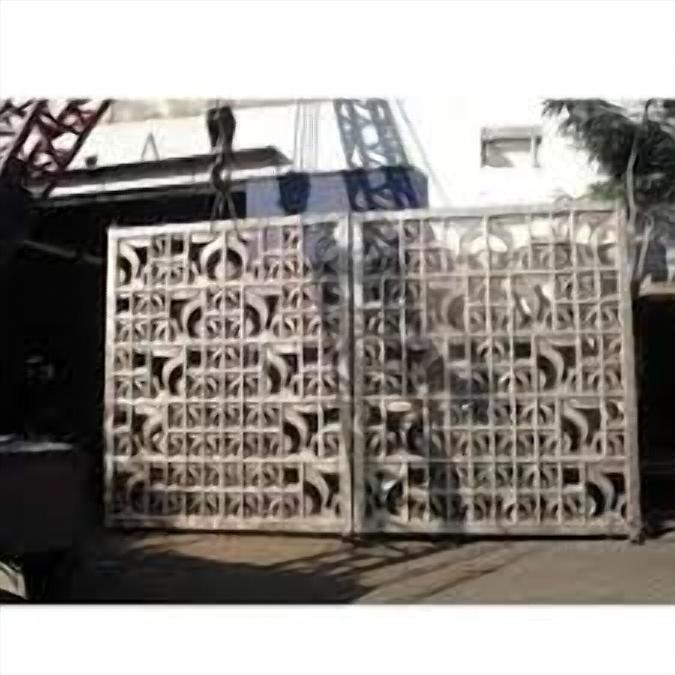Gate: (104, 195, 645, 543)
Window-without-grill: (480, 133, 541, 167)
